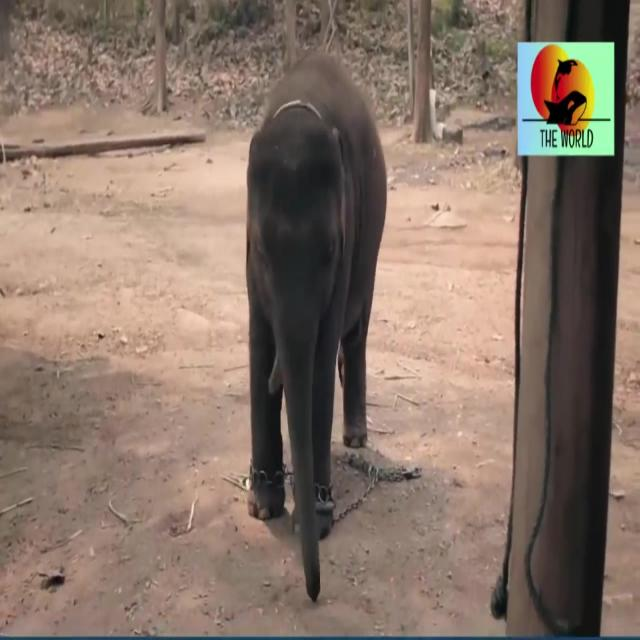Elephant: (244, 44, 383, 504)
